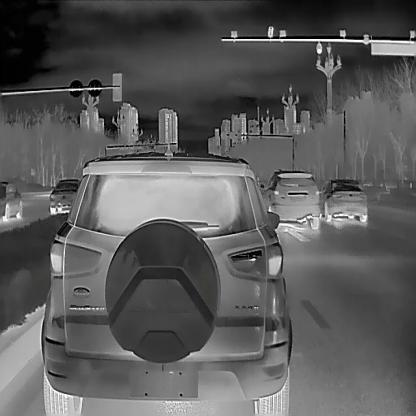car: (40, 148, 291, 415), (257, 168, 319, 228), (319, 177, 367, 221), (48, 178, 81, 216), (0, 179, 21, 221)
